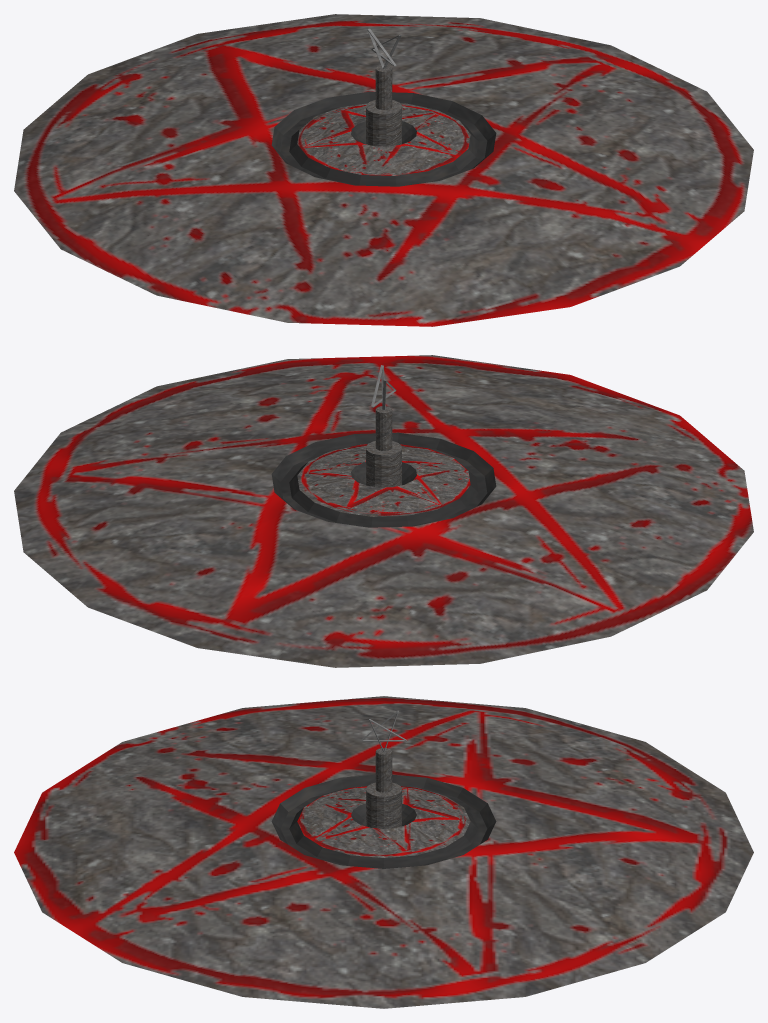
File: Pentagram.fbx
3 views of the same model, one above another, from view 1: azimuth 30°, elevation 25°; view 2: azimuth 150°, elevation 25°; view 3: azimuth 270°, elevation 25° (orthographic).
Parts seen in each view (by area): view 1: SM_Pentagram; view 2: SM_Pentagram; view 3: SM_Pentagram.
Boxes of the visible parts, bbox=[...] form: SM_Pentagram: bbox=[14, 14, 753, 326]; SM_Pentagram: bbox=[14, 355, 753, 667]; SM_Pentagram: bbox=[14, 696, 753, 1008].
Size of the model in its own units: 14.76 by 3.02 by 14.76.
1 material, 1 textured.
